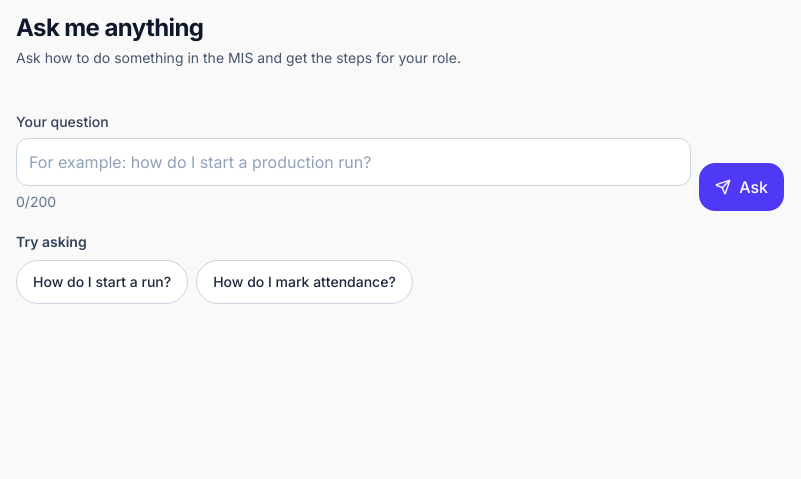
Test case: AskScreen › rate limited and error states
Click the button "How do I start a run?": coordinates (102, 282) 16,260 -> 188,304
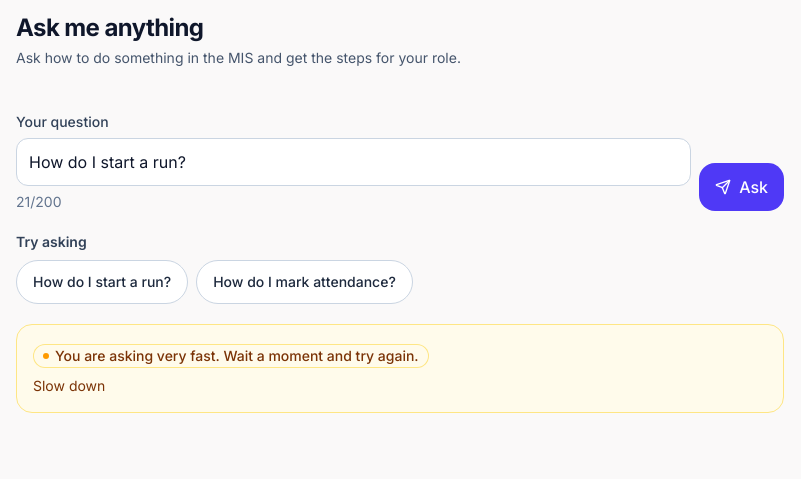
Expected: the text "You are asking very fast. Wait a moment and try again." is shown, 33,344 -> 429,368
Click the button "How do I mark attendance?": coordinates (304, 282) 196,260 -> 413,304
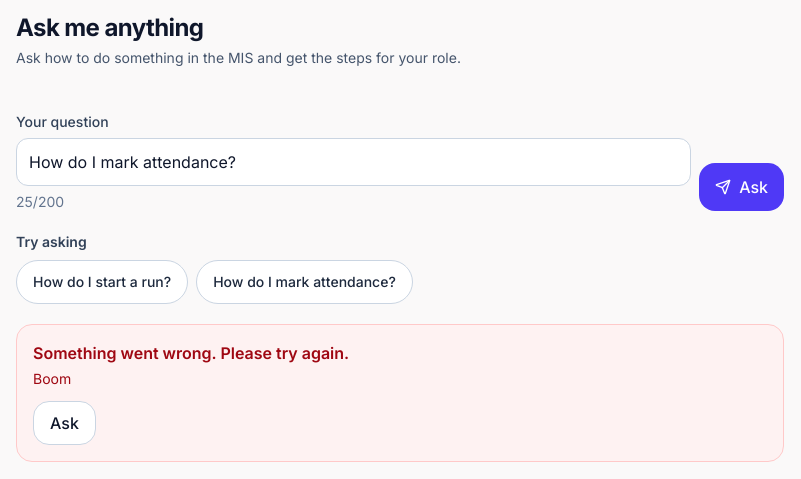
Expected: the text "Something went wrong. Please try again." is shown, 33,343 -> 349,363
